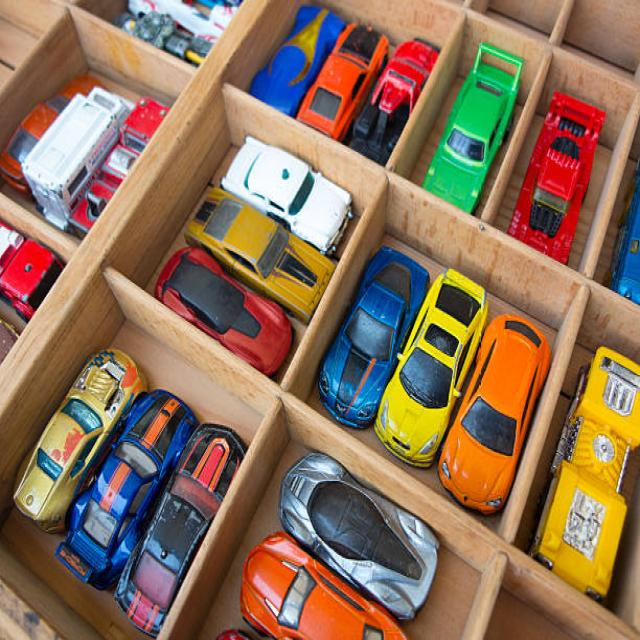Car: (113, 421, 247, 637), (374, 266, 488, 468), (437, 312, 551, 514), (317, 244, 430, 429), (238, 530, 410, 638), (421, 39, 524, 215), (154, 246, 293, 376), (220, 134, 354, 256), (295, 21, 388, 144)
